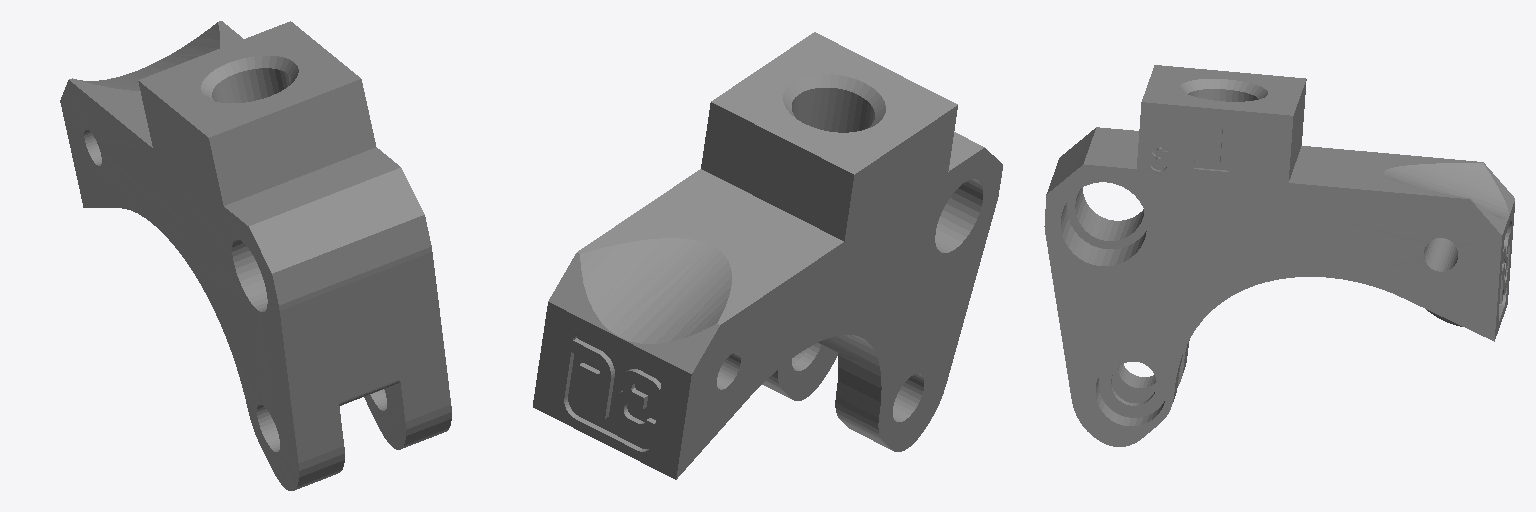
robot.urdf — cube.urdf:
<?xml version="0.0" ?> 
<robot name="cube.urdf"> 
<link name="legobrick"> 
<contact> 
<lateral_friction value="1.0"/>
<rolling_friction value="0.0"/>
<contact_cfm value="0.0"/>
<contact_erp value="1.0"/>
</contact> 
<inertial> 
<origin rpy="0 0 0" xyz="0.0 0.0 0.0"/> 
<mass value="0.1"/> 
<inertia ixx="1" ixy="0" ixz="0" iyy="1" iyz="0" izz="1"/> 
</inertial> 
<visual> 
<origin rpy="1.570796 0 0" xyz="-0.002882025278249388 -0.0013146455385775876 -0.0012236976042256152"/> 
<geometry> 
<mesh filename="part1.obj" scale="1 1 1"/> 
</geometry> 
<material name="yellow"> 
<color rgba="0.6 0.6 0.6 1"/> 
</material> 
</visual> 
<collision> 
<origin rpy="1.570796 0 0" xyz="-0.002882025278249388 -0.0013146455385775876 -0.0012236976042256152"/> 
<geometry> 
<mesh filename="part1_col.obj" scale="1 1 1"/> 
</geometry> 
</collision> 
</link> 
</robot>

--- What the picture shows (computed from the rendered views, not written in the file) ---
The picture shows the robot from 3 angles, left to right: view 1: azimuth 30°, elevation 25°; view 2: azimuth 150°, elevation 25°; view 3: azimuth 270°, elevation 25°; orthographic projection.
Model cube.urdf with 1 links and 0 joints (none), rooted at legobrick, posed every joint at zero.
Visible links, largest first — view 1: legobrick; view 2: legobrick; view 3: legobrick.
Link boxes in pixels (bbox=[...]): legobrick: bbox=[60, 21, 451, 490]; legobrick: bbox=[533, 32, 1002, 479]; legobrick: bbox=[1044, 65, 1514, 446].
Size in the robot's own frame: 0.0366 by 0.0767 by 0.0617 metres.
1 mesh visuals loaded from 1 distinct referenced files (1 OBJ).